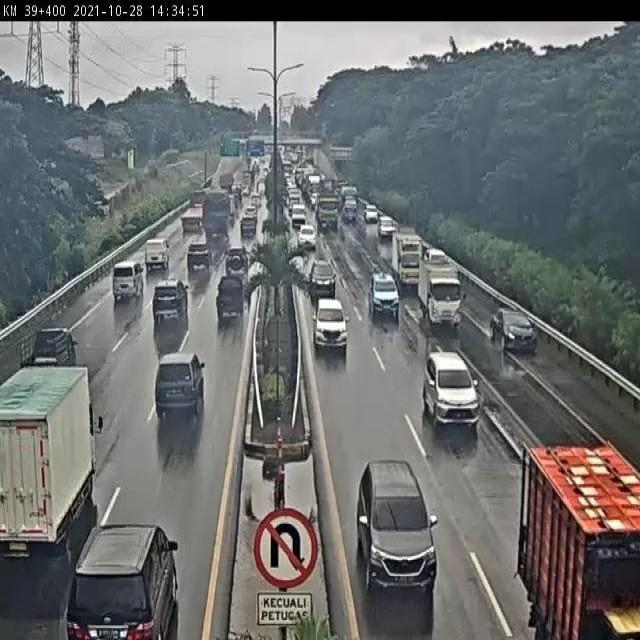big truck: (418, 245, 466, 331), (204, 187, 230, 237), (316, 196, 343, 229), (186, 192, 203, 233)
car: (85, 516, 174, 639), (369, 469, 435, 592), (416, 344, 488, 437), (151, 348, 209, 428), (483, 298, 544, 362), (311, 290, 350, 362), (31, 323, 78, 377), (151, 276, 190, 331), (368, 268, 403, 325), (106, 251, 143, 304), (215, 270, 246, 326), (141, 229, 172, 275), (310, 259, 340, 297), (186, 240, 212, 275), (298, 224, 318, 251), (364, 196, 380, 227), (376, 216, 396, 237), (243, 213, 258, 239), (290, 201, 307, 223)
small truck: (502, 432, 640, 640), (1, 356, 94, 559), (389, 227, 426, 289)
